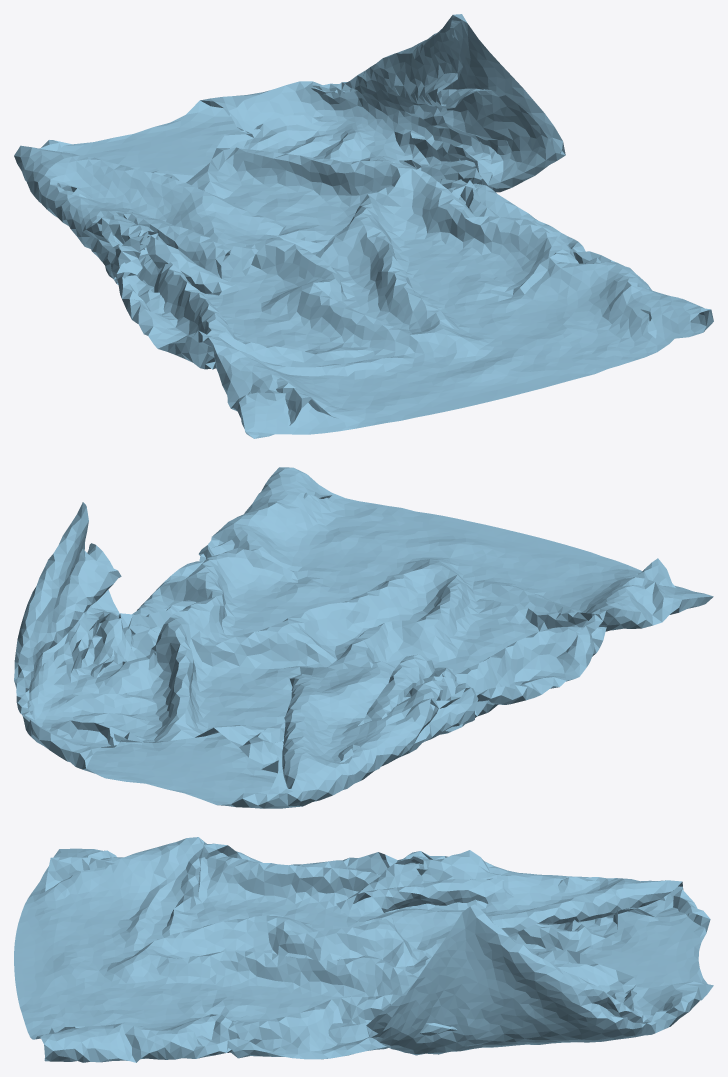
The model's file is frame_08.glb.
3 views of the same model, one above another, from view 1: azimuth 30°, elevation 25°; view 2: azimuth 150°, elevation 25°; view 3: azimuth 270°, elevation 25° (orthographic). The views are drawn at different scales.
Visible parts, largest first — view 1: frame_08.obj; view 2: frame_08.obj; view 3: frame_08.obj.
Part boxes in pixels (box(x1,y1,x2,y2)): frame_08.obj: box(14, 14, 713, 438); frame_08.obj: box(14, 467, 713, 808); frame_08.obj: box(14, 837, 713, 1062).
Bounding box in the file's own units: 1.29 × 0.4161 × 1.7.
